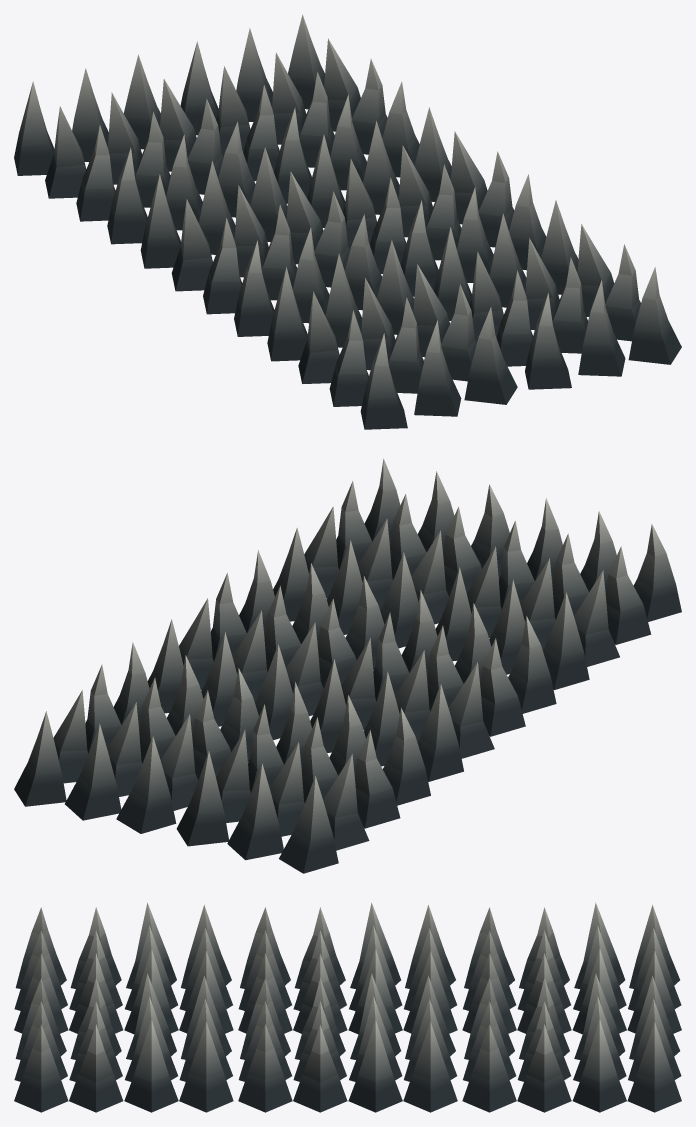
Rendered from P_Spike _3x1_000.fbx.
3 renders of one model, top to bottom at view 1: azimuth 30°, elevation 25°; view 2: azimuth 150°, elevation 25°; view 3: azimuth 270°, elevation 25°, orthographic. The views are drawn at different scales.
Visible parts, largest first — view 1: SM_Spike _3x1_000; view 2: SM_Spike _3x1_000; view 3: SM_Spike _3x1_000.
Boxes of the visible parts, x1,y1,x2,y2 form: SM_Spike _3x1_000: (14, 14, 681, 429); SM_Spike _3x1_000: (14, 458, 681, 873); SM_Spike _3x1_000: (14, 902, 681, 1112).
Bounding box in the file's own units: 4.63 × 1.2 × 9.38.
